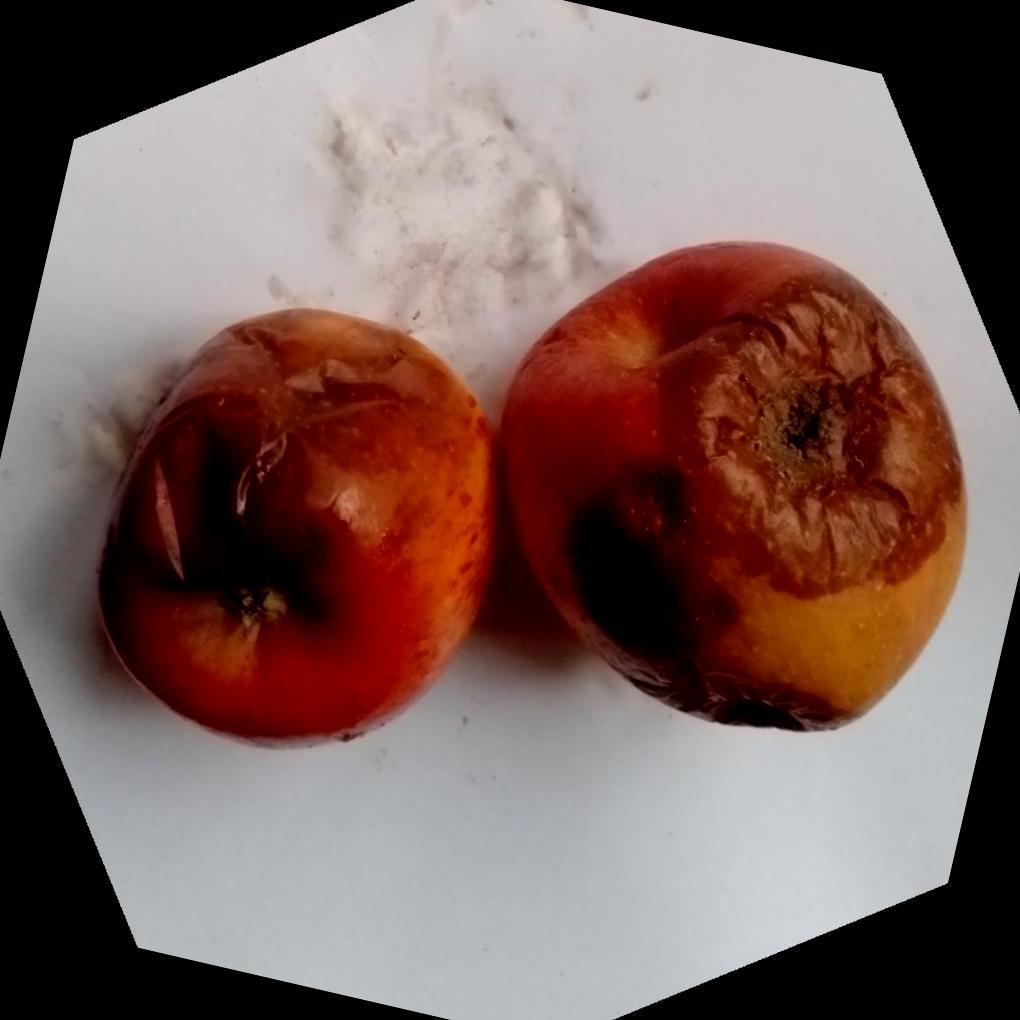FreshOrange: (95, 234, 968, 745)
